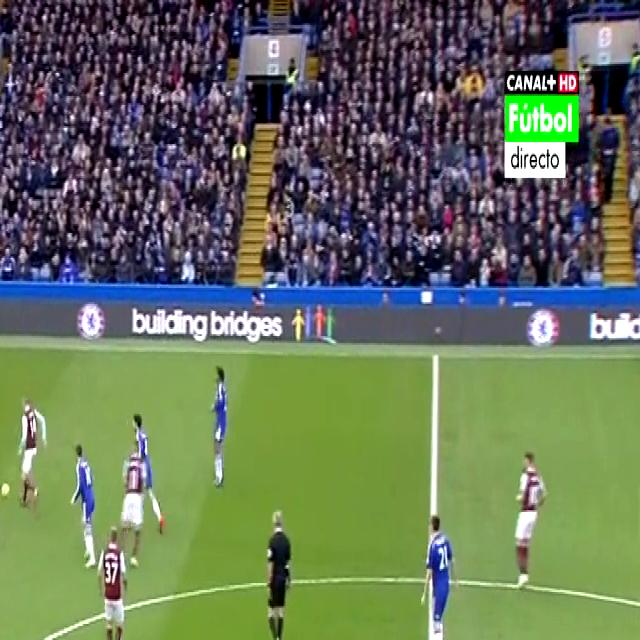ball: (0, 473, 13, 503)
referee: (258, 490, 293, 640)
soccer-player: (123, 403, 168, 531), (512, 436, 544, 596), (420, 505, 453, 640), (94, 521, 128, 640), (69, 434, 98, 571), (208, 353, 235, 490), (18, 385, 46, 514), (120, 446, 146, 569)
